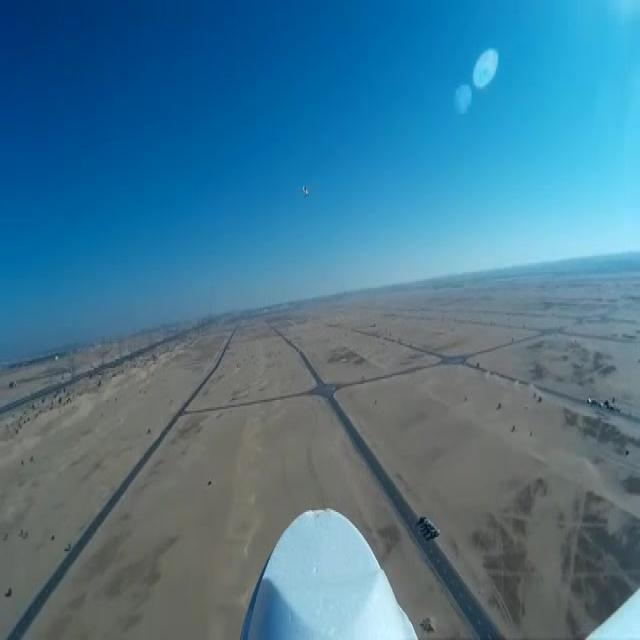iha: (297, 186, 314, 199)
